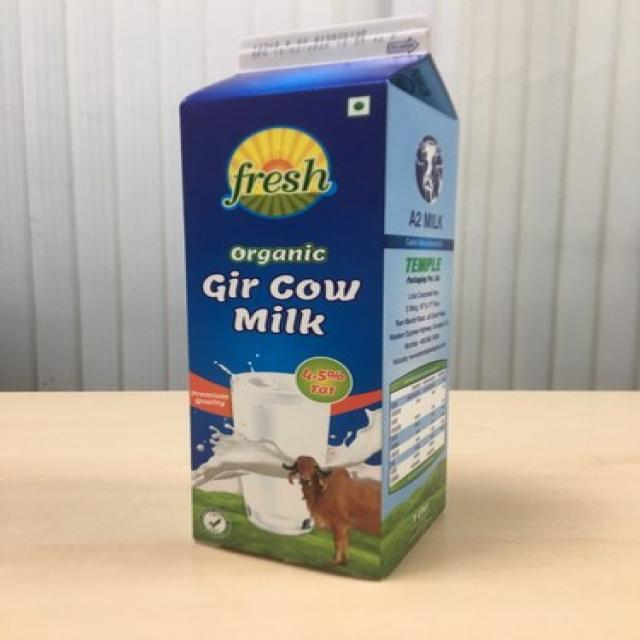Carton: (166, 5, 474, 600)
